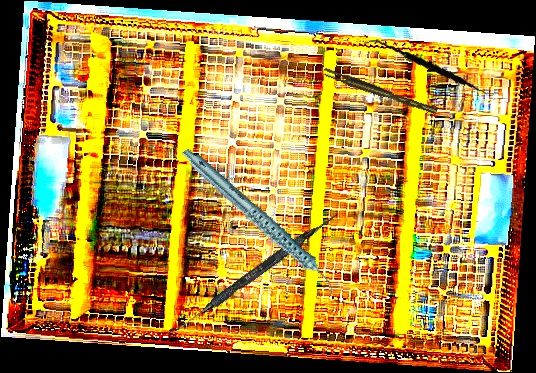Handpiece: (181, 123, 338, 320)
Spatula Surgical: (168, 207, 340, 341), (363, 23, 500, 113)
Tissue Forceps: (322, 63, 438, 121)
